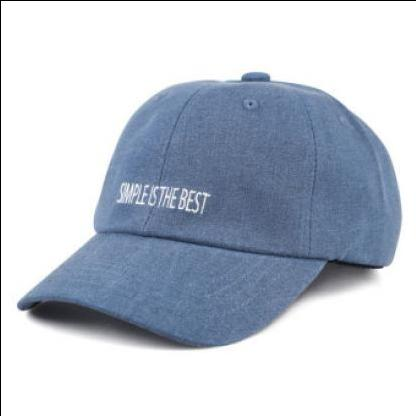cap: (8, 62, 406, 349)
